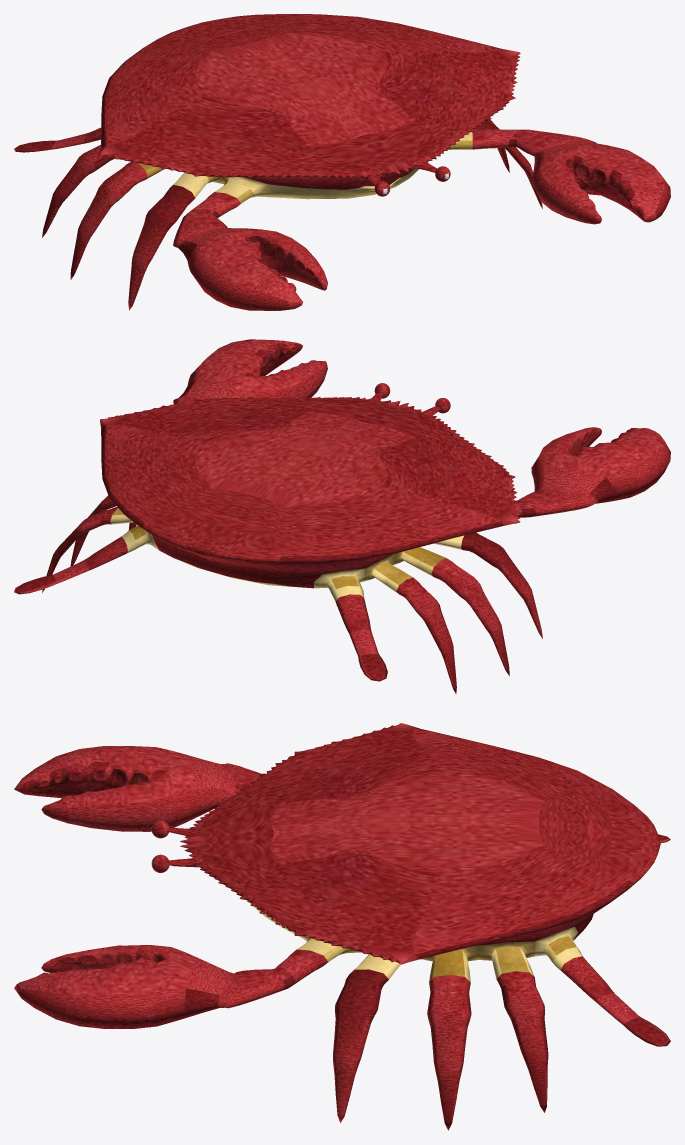
File: Crab.obj
3 renders of one model, top to bottom at view 1: azimuth 30°, elevation 25°; view 2: azimuth 150°, elevation 25°; view 3: azimuth 270°, elevation 25°, orthographic. The views are drawn at different scales.
Parts seen in each view (by area): view 1: Cube; view 2: Cube; view 3: Cube.
Boxes of the visible parts, x1=… form: Cube: x1=14, y1=14, x2=670, y2=310; Cube: x1=14, y1=339, x2=670, y2=693; Cube: x1=14, y1=723, x2=670, y2=1130.
Size of the model in its own units: 3.55 by 1.18 by 3.79.
Materials: 4 (4 with a texture image).
